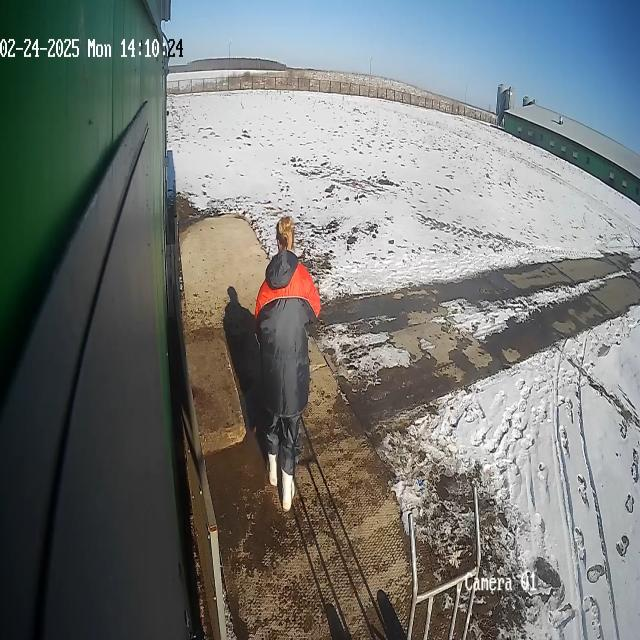Red uniform: (252, 249, 322, 478)
